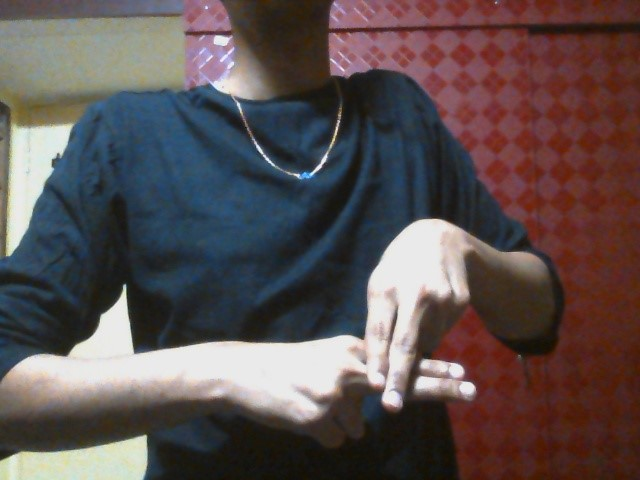F: (250, 227, 477, 450)
